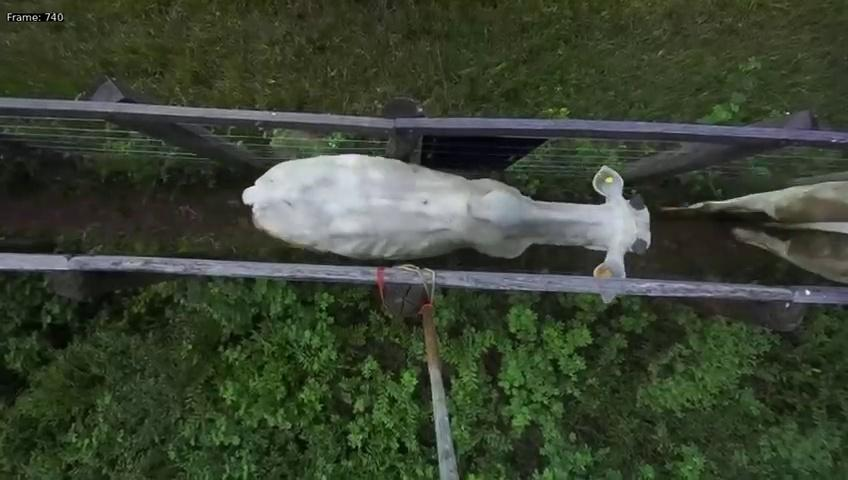cattle: (239, 128, 654, 278)
